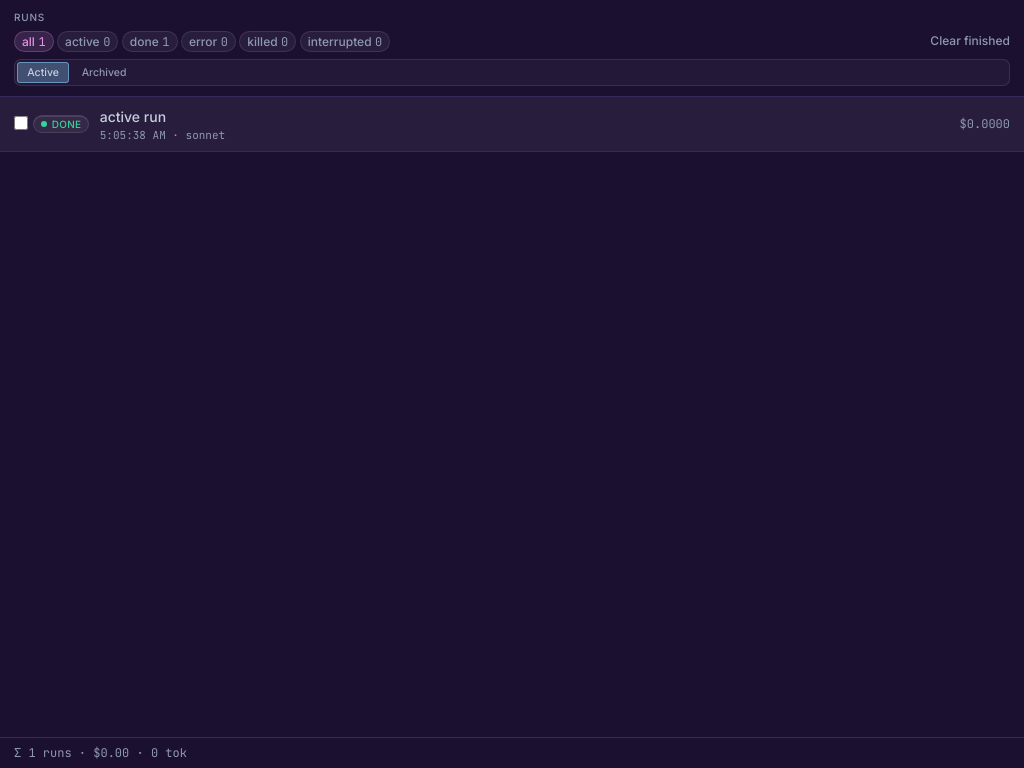
Test: RunList bulk actions (Lane B, B5 — floating selection popup, Round 2) › selecting a non-archived row shows the selection popup with an Archive action
The image size is (1024, 768).
Expected: the text "active run" is shown, [100,108,166,125]
Click the checkbox.
click(21, 122)  # box [14,116,28,130]
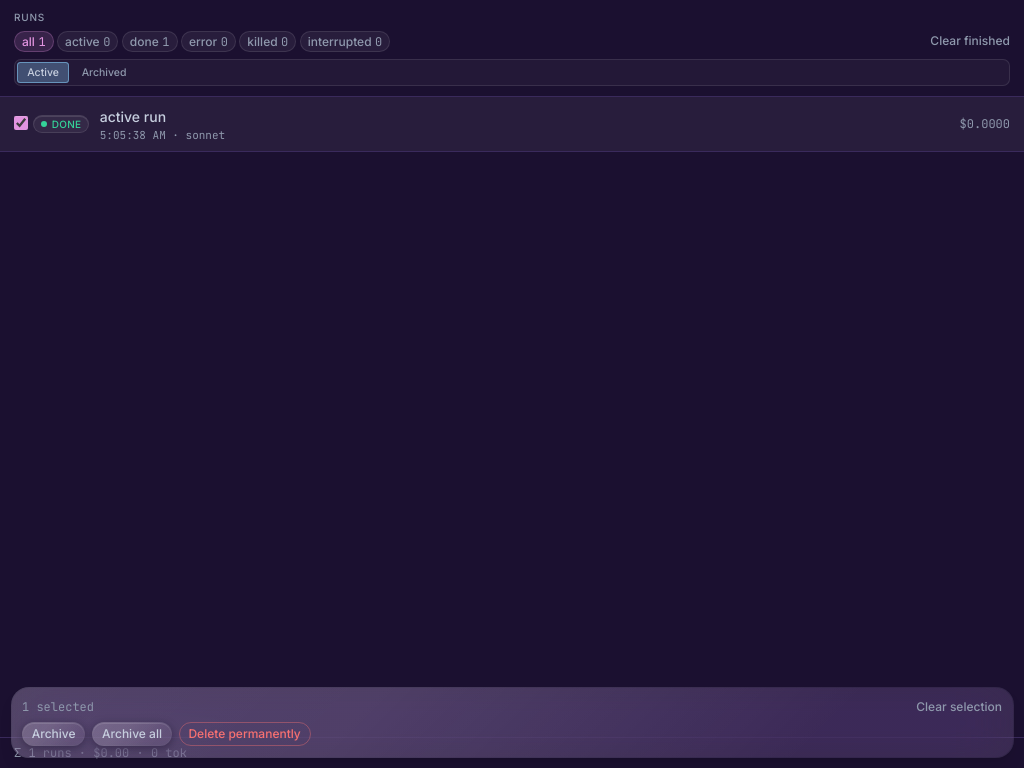
Expected: the element with test id "run-bulk-bar" is shown, [10,687,1014,758]
Expected: the button with test id "run-bulk-archive" reads "Archive"
Expected: the button with test id "run-bulk-archive-all" is shown, [92,722,172,746]
Click the button with test id "run-bulk-archive".
click(54, 734)  # box [22,722,85,746]
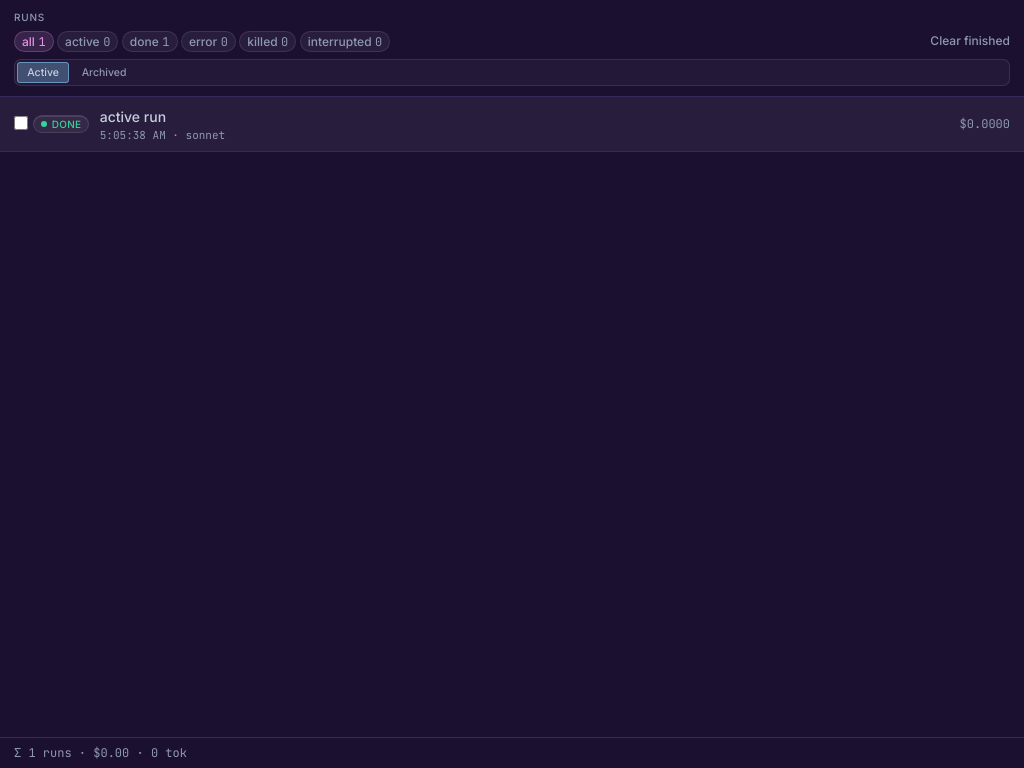
Expected: the element with test id "run-bulk-bar" is gone
